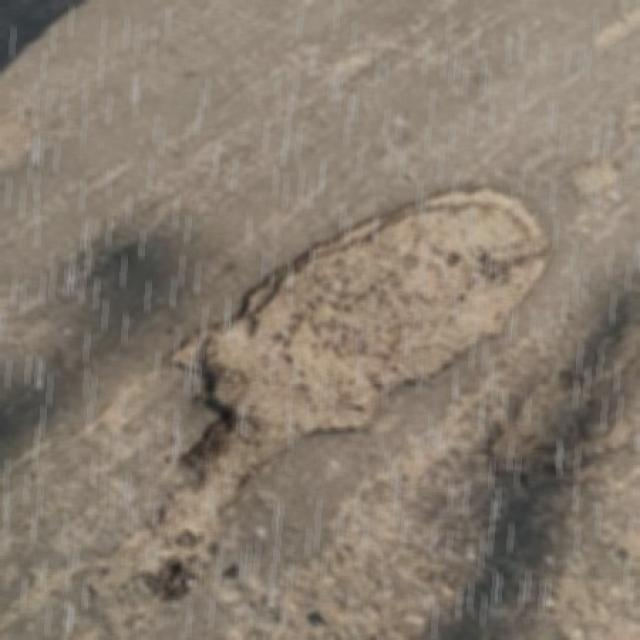road-pothole: (77, 179, 564, 582)
